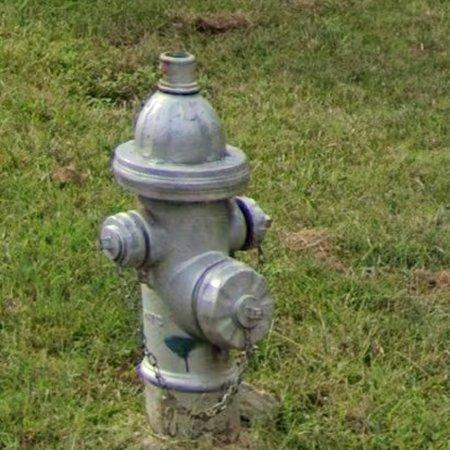a fire hydrant: (100, 52, 273, 440)
